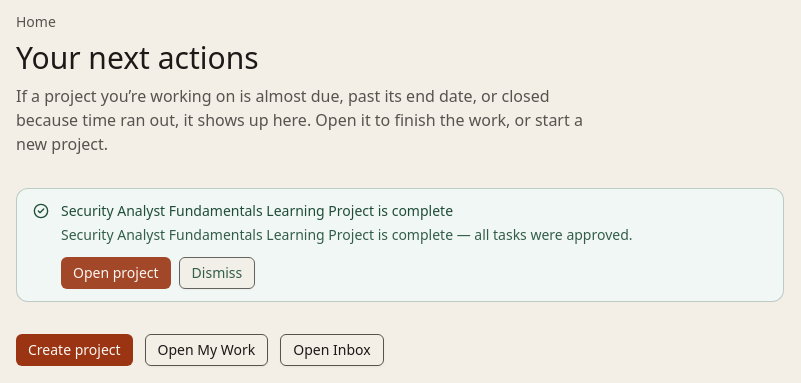
it: HomePage › shows a completed project as a success notice instead of ending soon
Expected: the text "is complete — all tasks were approved" is shown, [61, 225, 632, 244]
What coordinates should you click on to do the following:
click the button "Dismiss"
I would click on:
 (217, 273)
Its box is [179, 257, 255, 289].
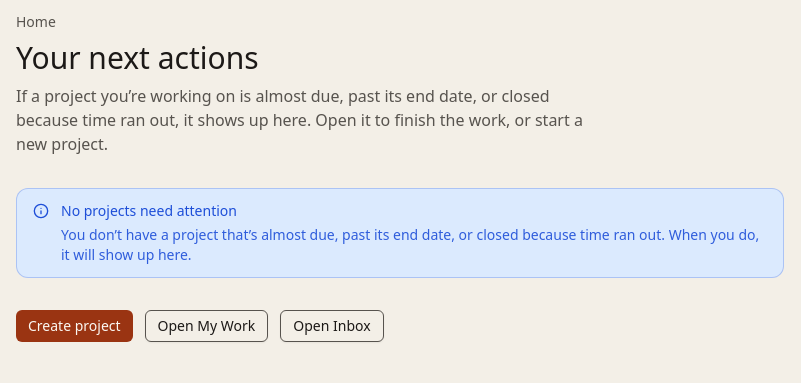
Now the text "is complete — all tasks were approved" is gone
